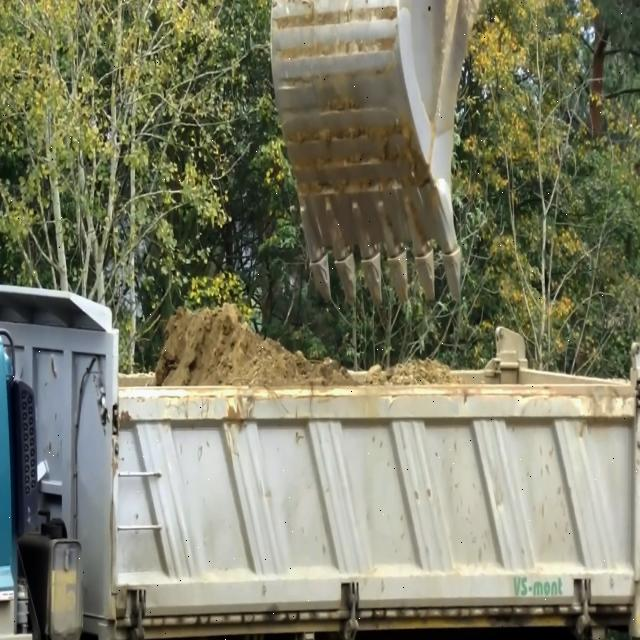Excavator: (271, 0, 486, 307)
